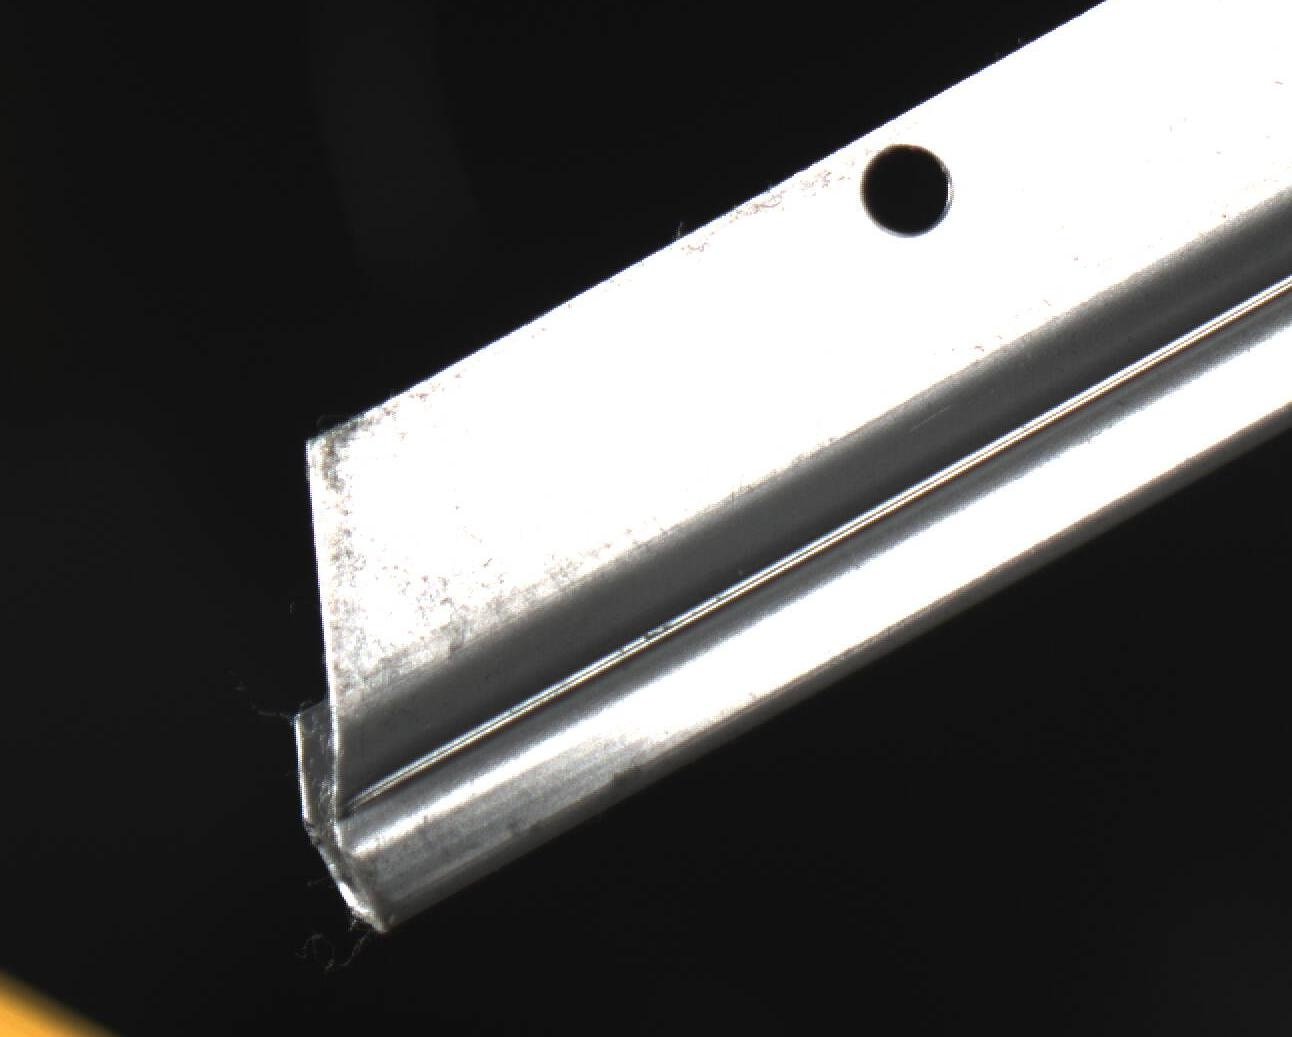cut: (249, 368, 747, 931)
holes: (860, 142, 956, 239)
